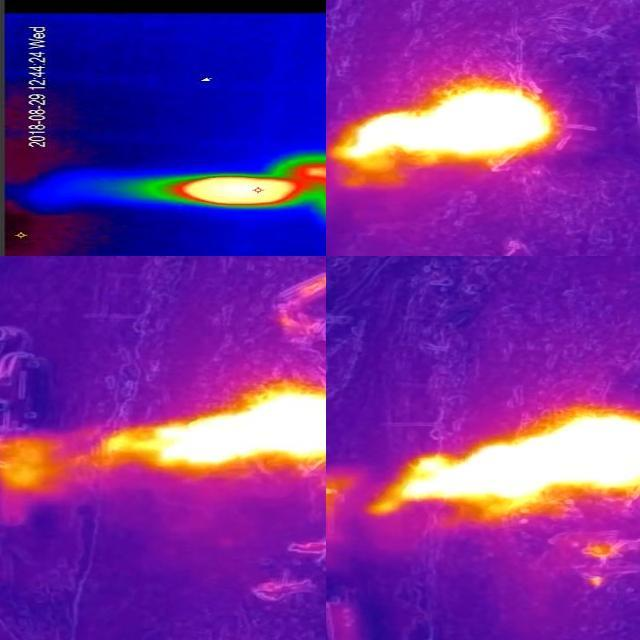fire: (371, 412, 640, 514), (79, 378, 327, 474), (327, 84, 559, 172), (146, 175, 306, 206)
